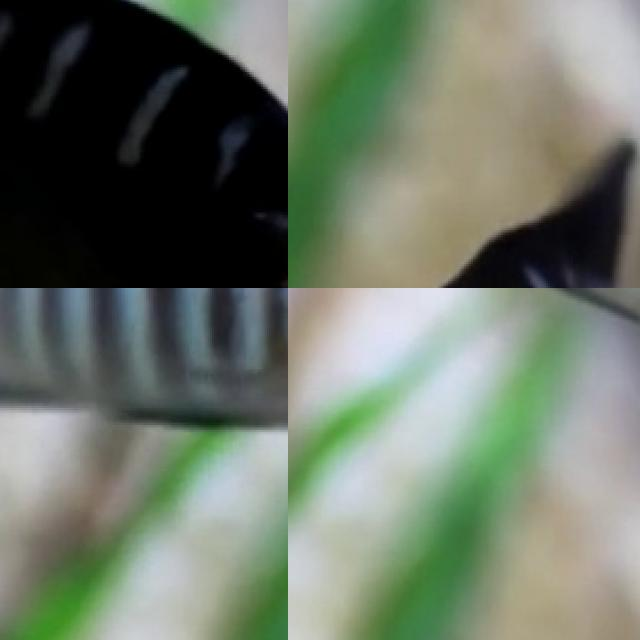fish: (0, 0, 288, 288), (0, 288, 288, 468)
